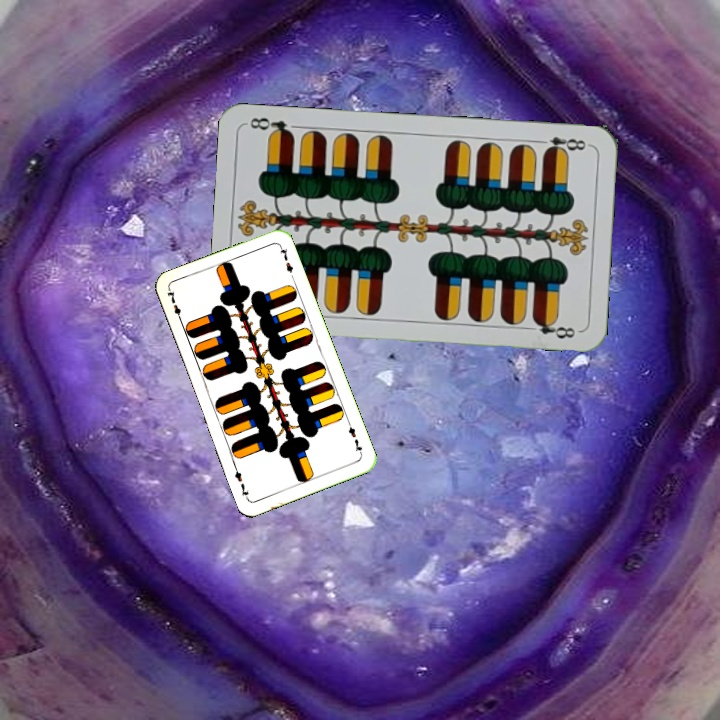E7: (163, 286, 185, 325), (344, 419, 365, 458)
E8: (533, 133, 592, 157)
